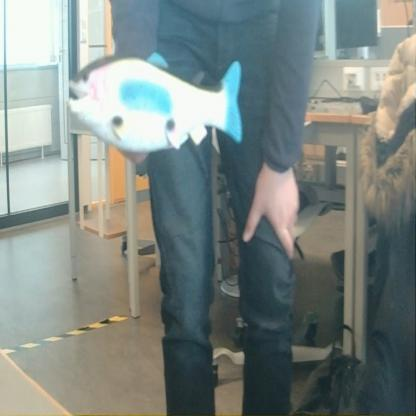rubberfish: (59, 48, 247, 159)
